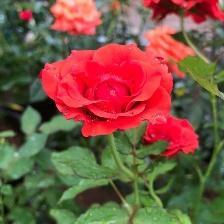rose: (40, 42, 175, 137), (144, 116, 202, 157), (51, 1, 104, 37), (147, 1, 224, 23)
